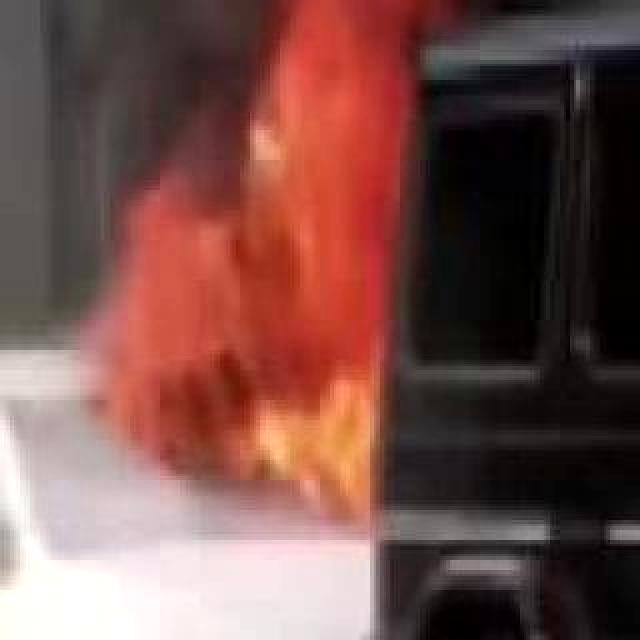fire: (144, 0, 460, 490)
